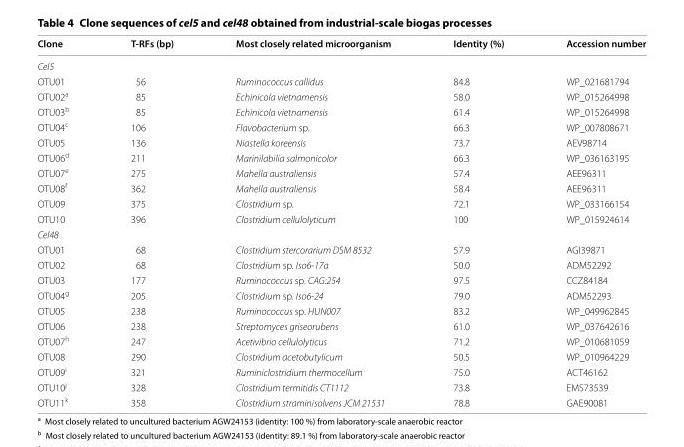table: (36, 36, 645, 408)
table column: (204, 36, 421, 408), (421, 36, 534, 408), (534, 36, 645, 408), (99, 36, 204, 408), (36, 36, 99, 408)
table column header: (36, 36, 645, 54)
table projected row header: (36, 54, 645, 73), (36, 226, 645, 241)
table row: (36, 54, 645, 73), (36, 36, 645, 54), (36, 87, 645, 103), (36, 118, 645, 134), (36, 179, 645, 195), (36, 195, 645, 211), (36, 256, 645, 272), (36, 286, 645, 302), (36, 302, 645, 318), (36, 332, 645, 348), (36, 378, 645, 394), (36, 103, 645, 118), (36, 134, 645, 149), (36, 149, 645, 164), (36, 164, 645, 179), (36, 211, 645, 226), (36, 226, 645, 241), (36, 241, 645, 256), (36, 348, 645, 363), (36, 363, 645, 378), (36, 73, 645, 87), (36, 272, 645, 286), (36, 318, 645, 332), (36, 394, 645, 408)
